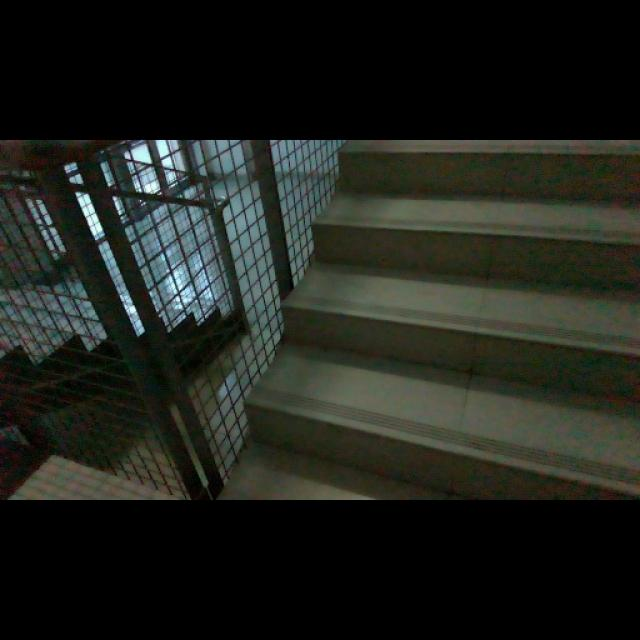stair: (261, 144, 640, 489)
